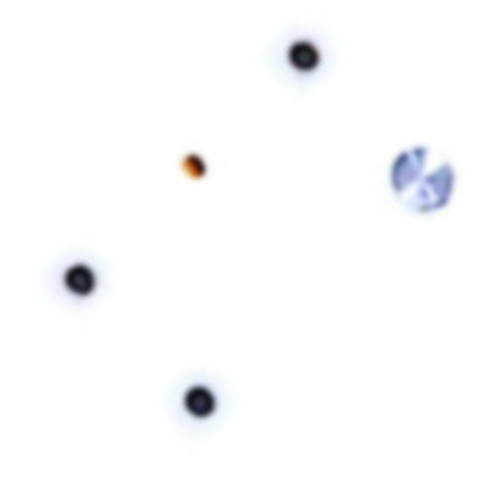abnormal: (360, 126, 483, 231)
cancer: (33, 247, 124, 326), (259, 26, 342, 90), (166, 377, 239, 437)
normal: (146, 144, 217, 197)
